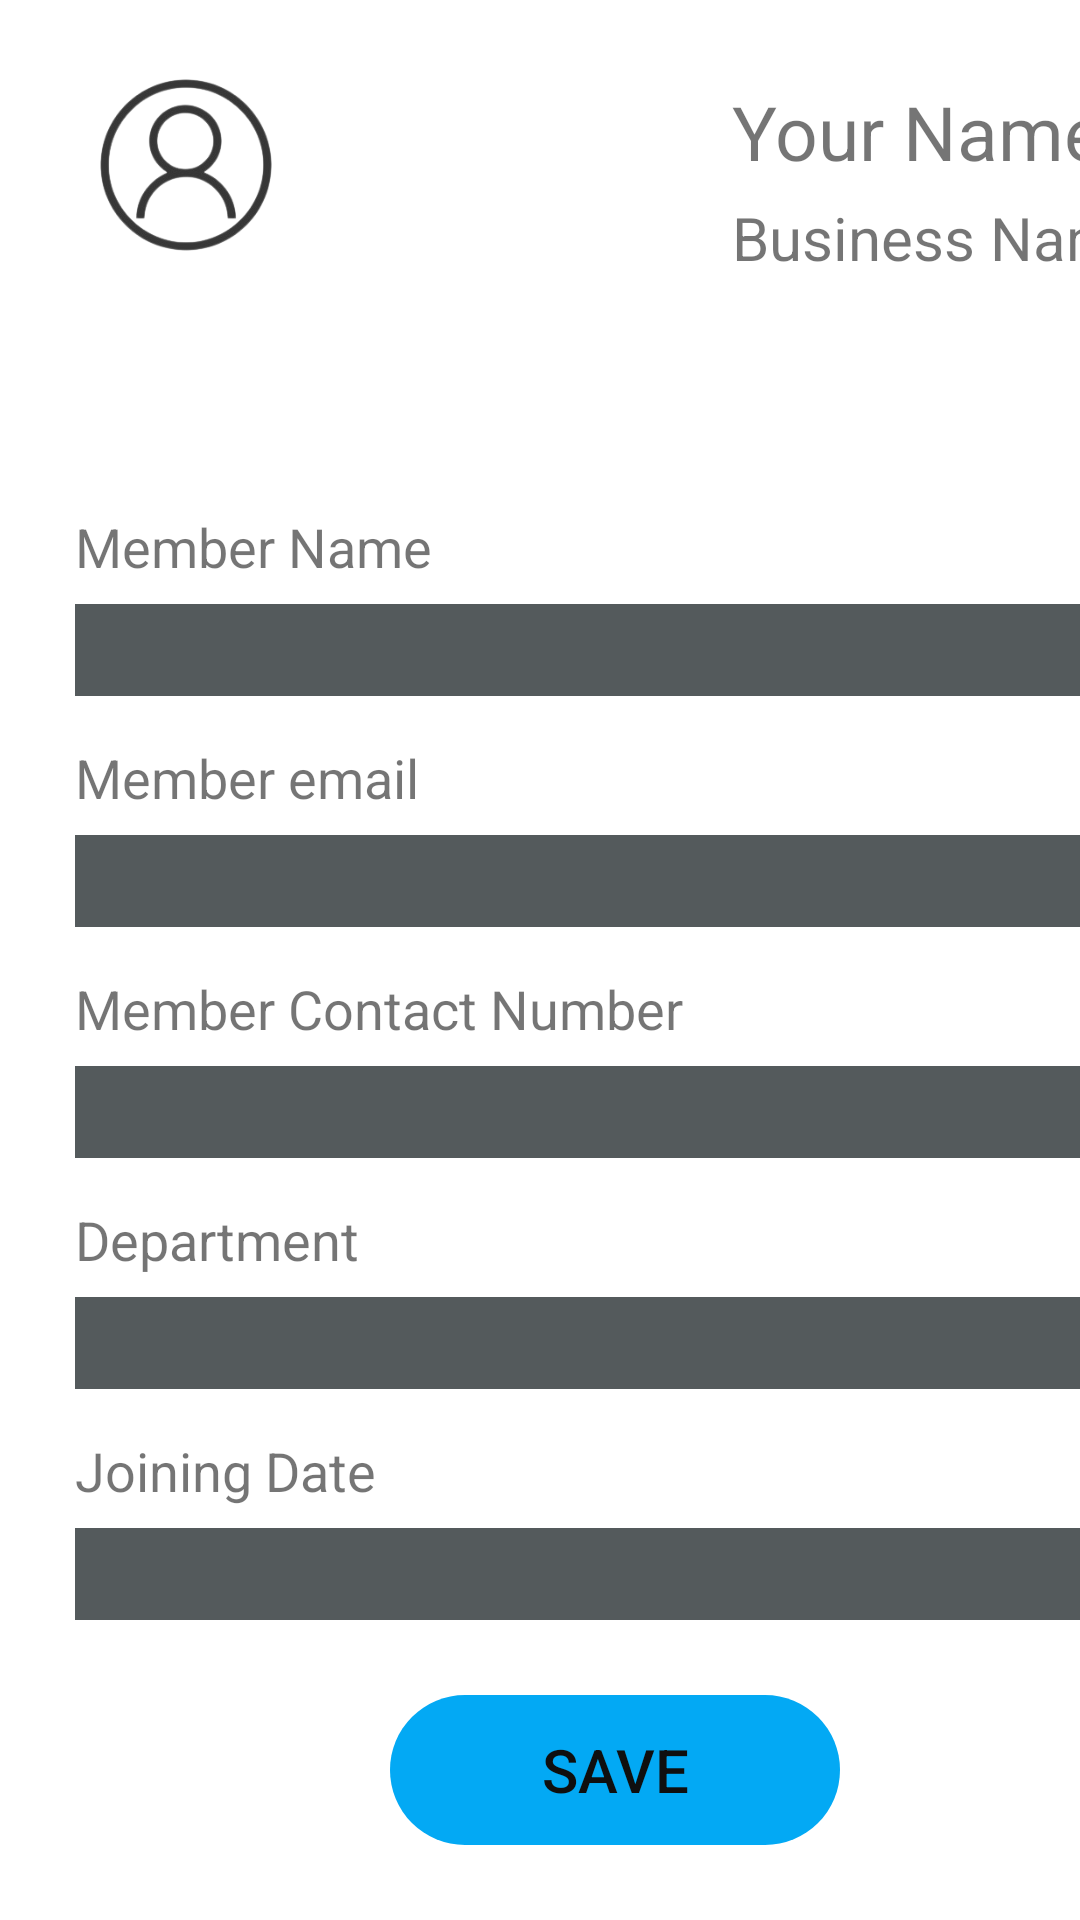

Icons on this 1080w x 1920h Android screen, each with its box as (x1, y1, x2, y2):
profile: (100, 79, 272, 251)
